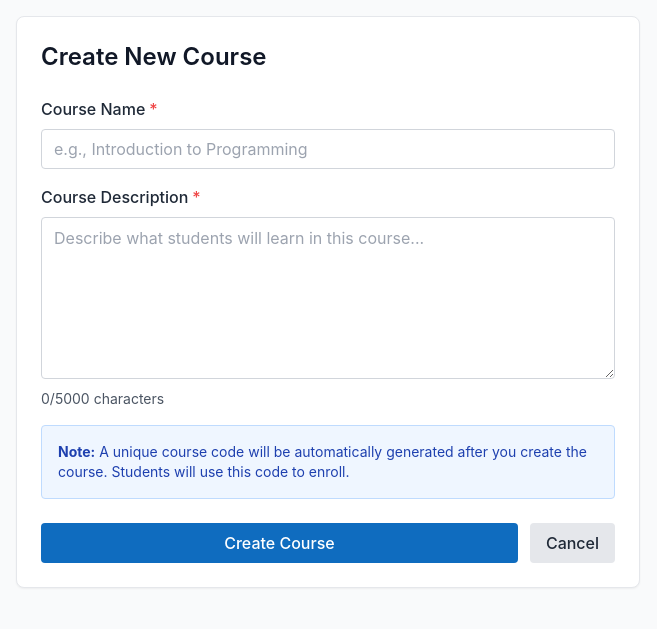
Test case: CreateCourse › Form Validation › should clear field error when user types
// Fill both fields to pass HTML validation
Type "A" into the field labelled "Course Name*" at (328, 149), box [41,129,615,169]
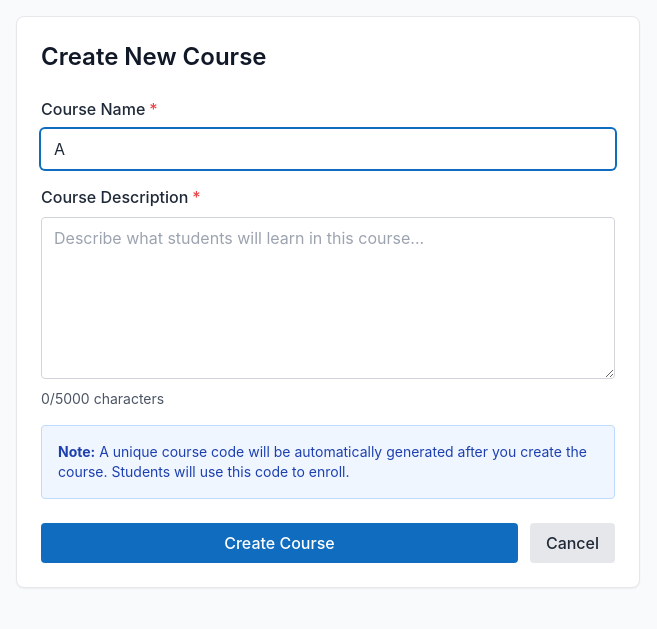
Type "Test description" into the text box labelled "Course Description*" at (328, 298), box [41,217,615,379]
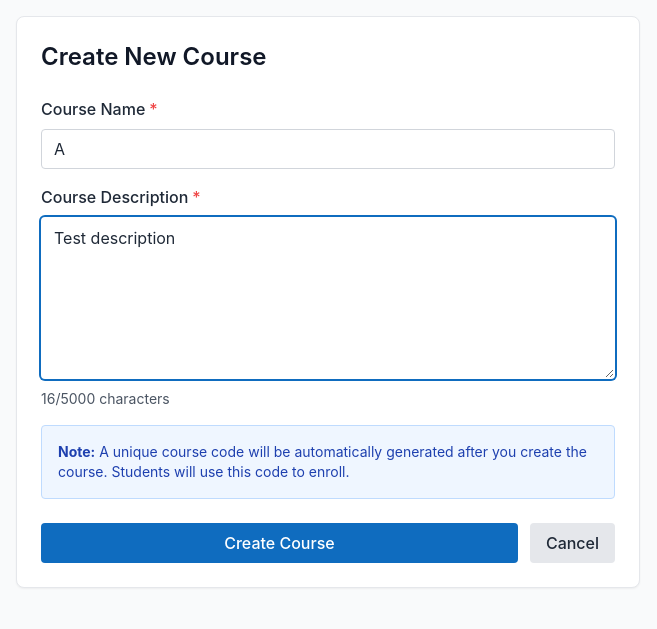
// Submit to trigger server validation error
Click the button "Create Course" at (279, 543), box [41,523,518,563]
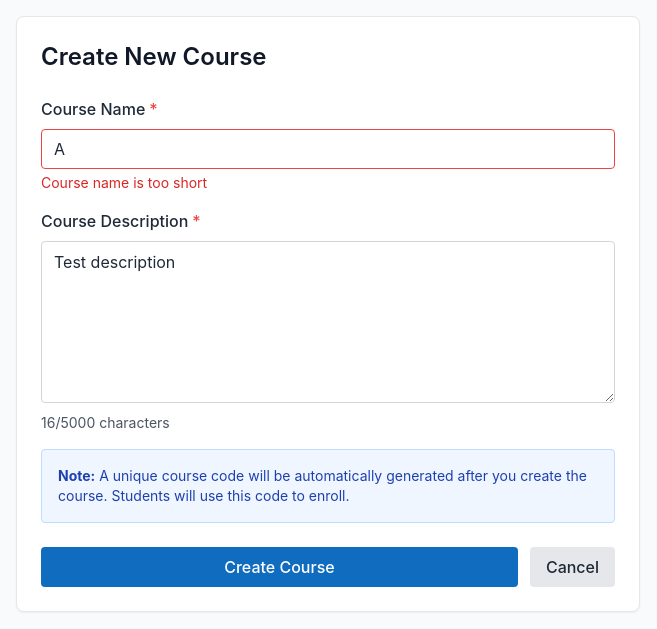
Expected: the text "Course name is too short" is shown, [41,174,207,191]
// Type in name field
Type "B" into the field labelled "Course Name*" at (328, 149), box [41,129,615,169]
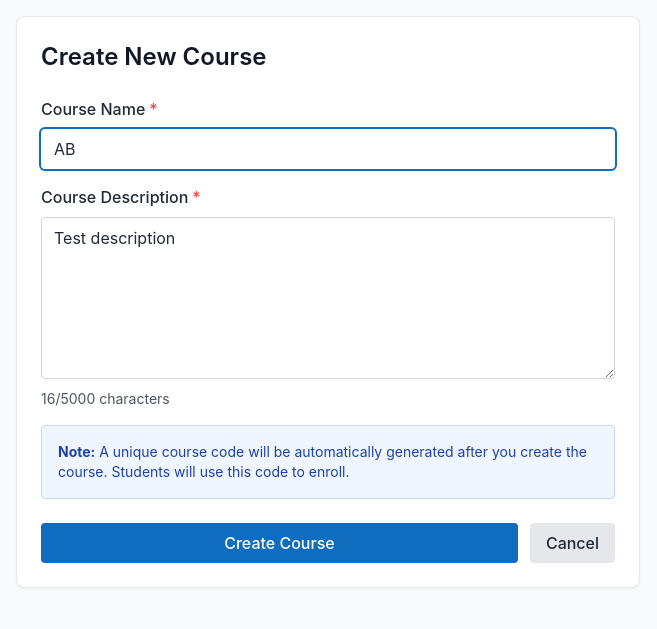
Expected: the text "Course name is too short" is gone
